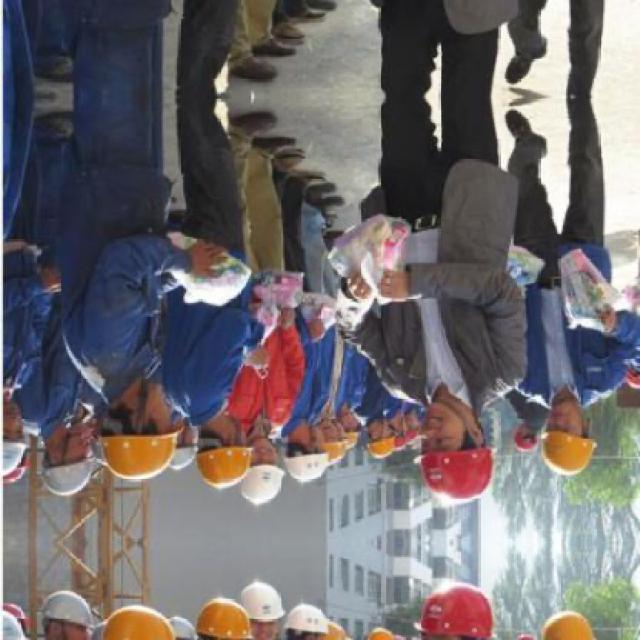con casco: (495, 406, 624, 486), (414, 411, 497, 497), (105, 390, 183, 480), (212, 451, 281, 508), (191, 430, 251, 488), (310, 410, 368, 470), (281, 428, 337, 478)
